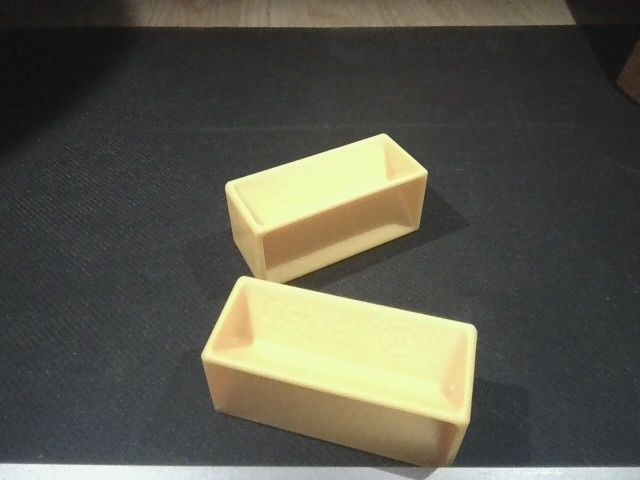YellowSample: (198, 274, 481, 467), (220, 129, 432, 285)
